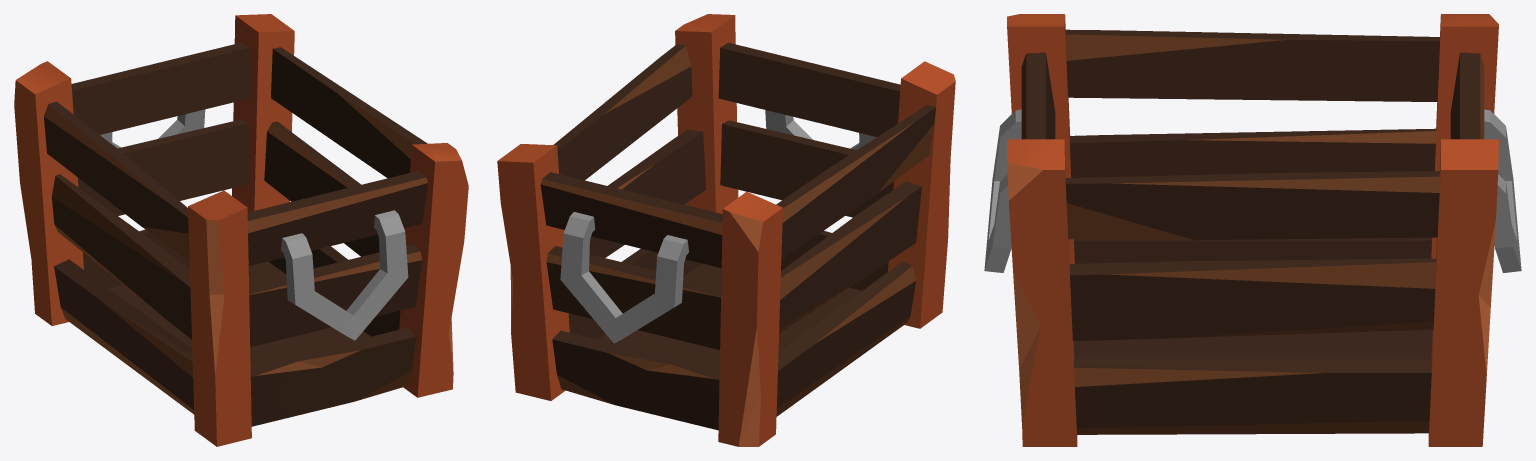
The model's file is Crate_3.fbx.
3 views of the same model, side by side, from view 1: azimuth 30°, elevation 25°; view 2: azimuth 150°, elevation 25°; view 3: azimuth 270°, elevation 25° (orthographic). The views are drawn at different scales.
Parts seen in each view (by area): view 1: Crate_3; view 2: Crate_3; view 3: Crate_3.
Boxes of the visible parts, bbox=[...] form: Crate_3: bbox=[14, 14, 468, 446]; Crate_3: bbox=[497, 14, 955, 446]; Crate_3: bbox=[984, 14, 1521, 446].
Bounding box in the file's own units: 14.96 × 13.12 × 21.8.
